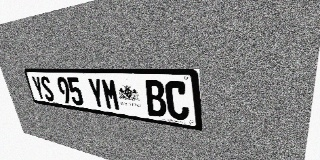5: (66, 77, 85, 106)
9: (56, 77, 73, 104)
B: (144, 80, 167, 118)
C: (164, 80, 190, 121)
M: (101, 78, 121, 111)
S: (39, 76, 55, 102)
Y: (87, 78, 106, 109), (31, 76, 46, 100)
